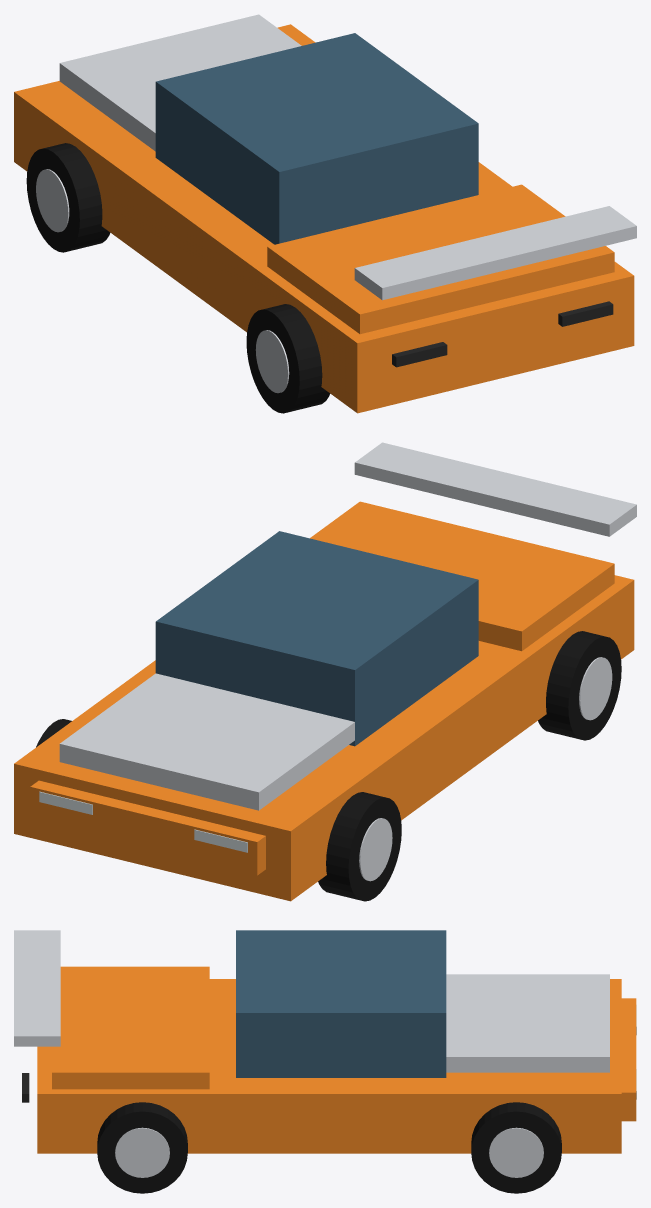
The model's file is vehicle_challenger.glb.
3 views of the same model, one above another, from view 1: azimuth 30°, elevation 25°; view 2: azimuth 150°, elevation 25°; view 3: azimuth 270°, elevation 25° (orthographic). The views are drawn at different scales.
Parts seen in each view (by area): view 1: world; view 2: world; view 3: world.
Part boxes in pixels (x1,y1,x2,y2): world: (14,14,636,413); world: (14,442,636,901); world: (14,930,636,1193).
Bounding box in the file's own units: 2.67 × 1.44 × 5.22.
